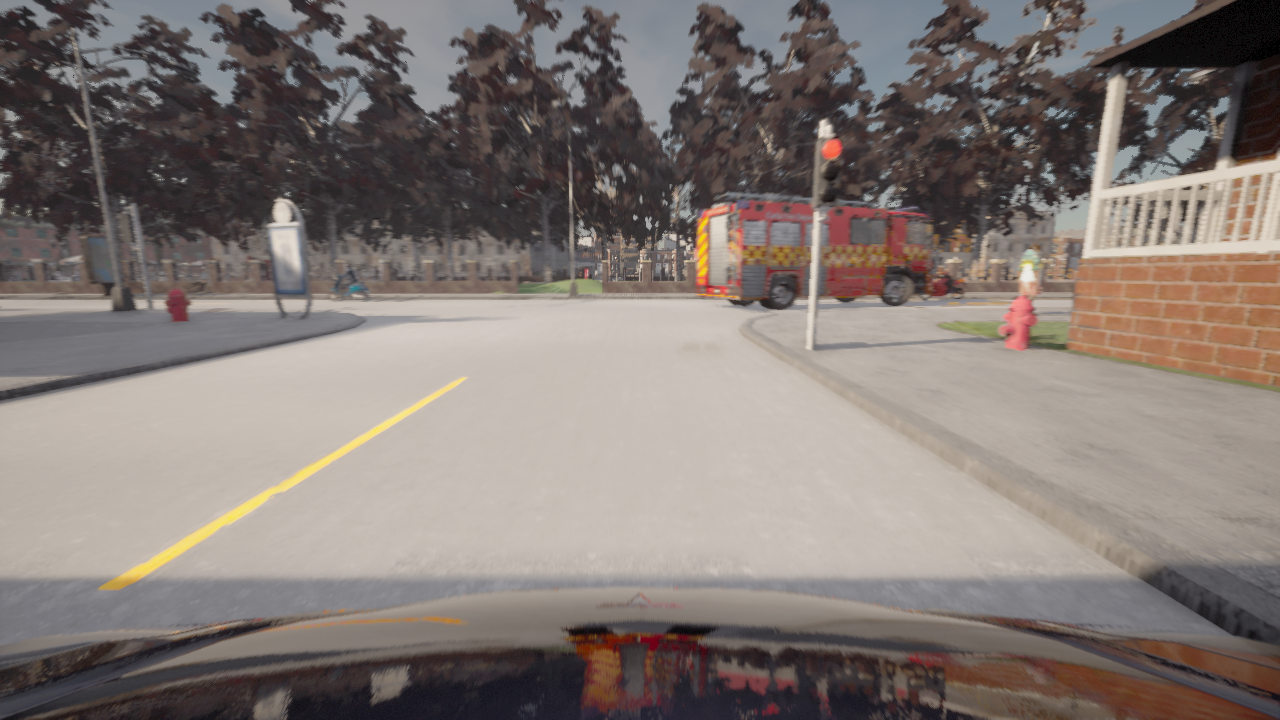cyclist: (0, 588, 1279, 719), (697, 192, 932, 310), (919, 274, 967, 300), (328, 273, 369, 300)
pedestrian: (1018, 245, 1042, 315)
